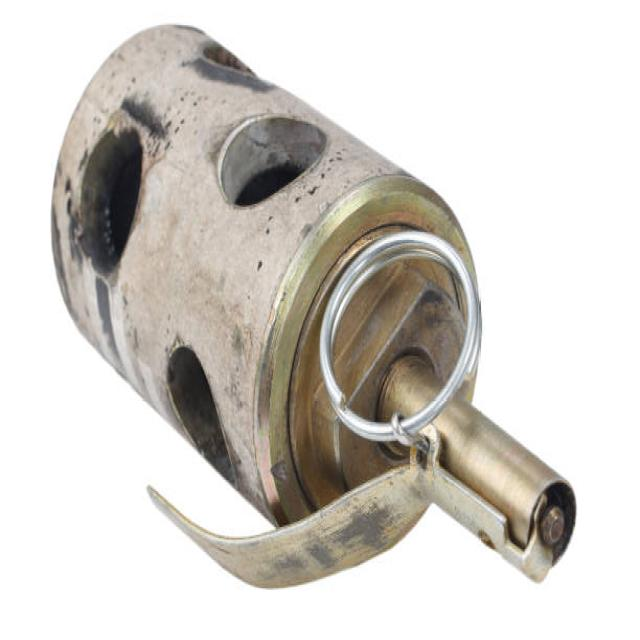grenade: (36, 24, 582, 607)
